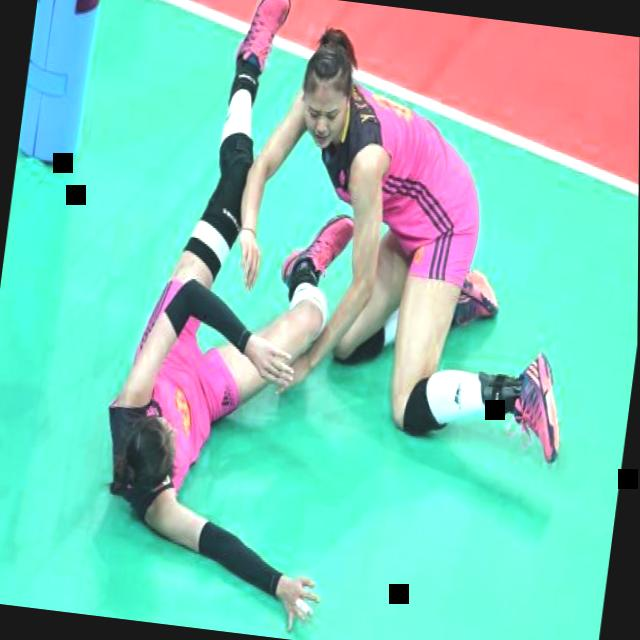Fall-Detected: (69, 0, 407, 630)
